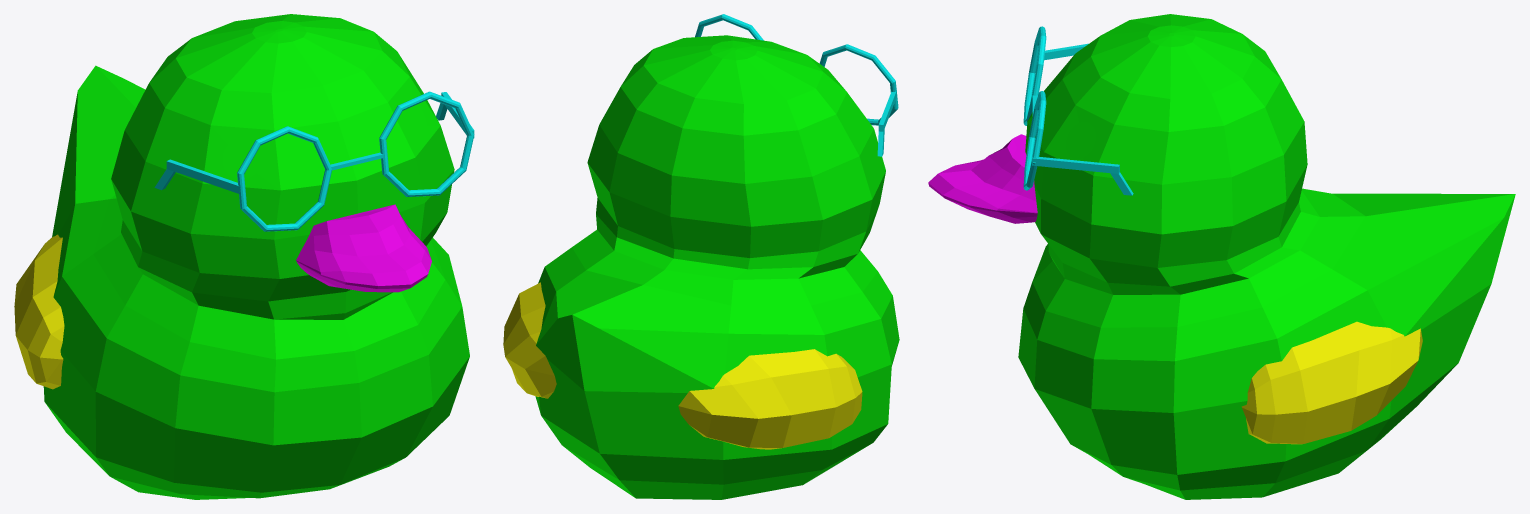
Rendered from rubber_duck_03.fbx.
The picture shows the model from 3 angles, left to right: view 1: azimuth 30°, elevation 25°; view 2: azimuth 150°, elevation 25°; view 3: azimuth 270°, elevation 25°; orthographic projection. The views are drawn at different scales.
Parts seen in each view (by area): view 1: rubber_duck_03; view 2: rubber_duck_03; view 3: rubber_duck_03.
Part boxes in pixels (box(x1,y1,x2,y2)): rubber_duck_03: box(14, 14, 474, 499); rubber_duck_03: box(503, 14, 899, 499); rubber_duck_03: box(928, 14, 1515, 499).
Size of the model in its own units: 5.8 by 6.15 by 8.09.
